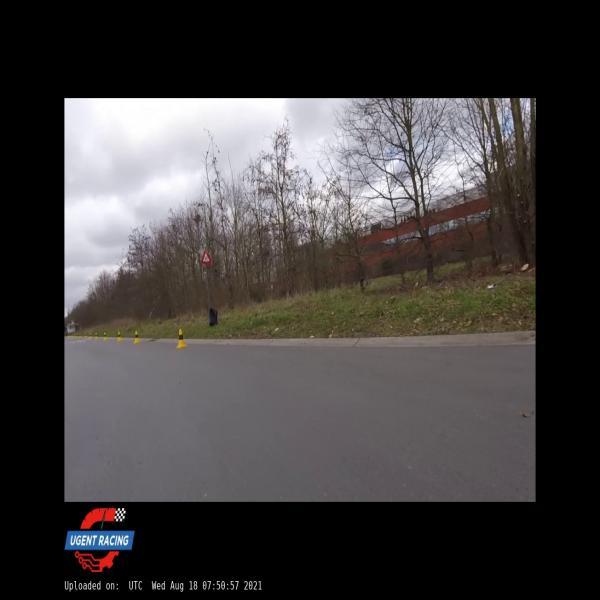yellow_cone: (176, 328, 188, 348), (133, 331, 140, 343), (116, 331, 122, 341), (102, 331, 106, 340), (94, 332, 98, 340)
